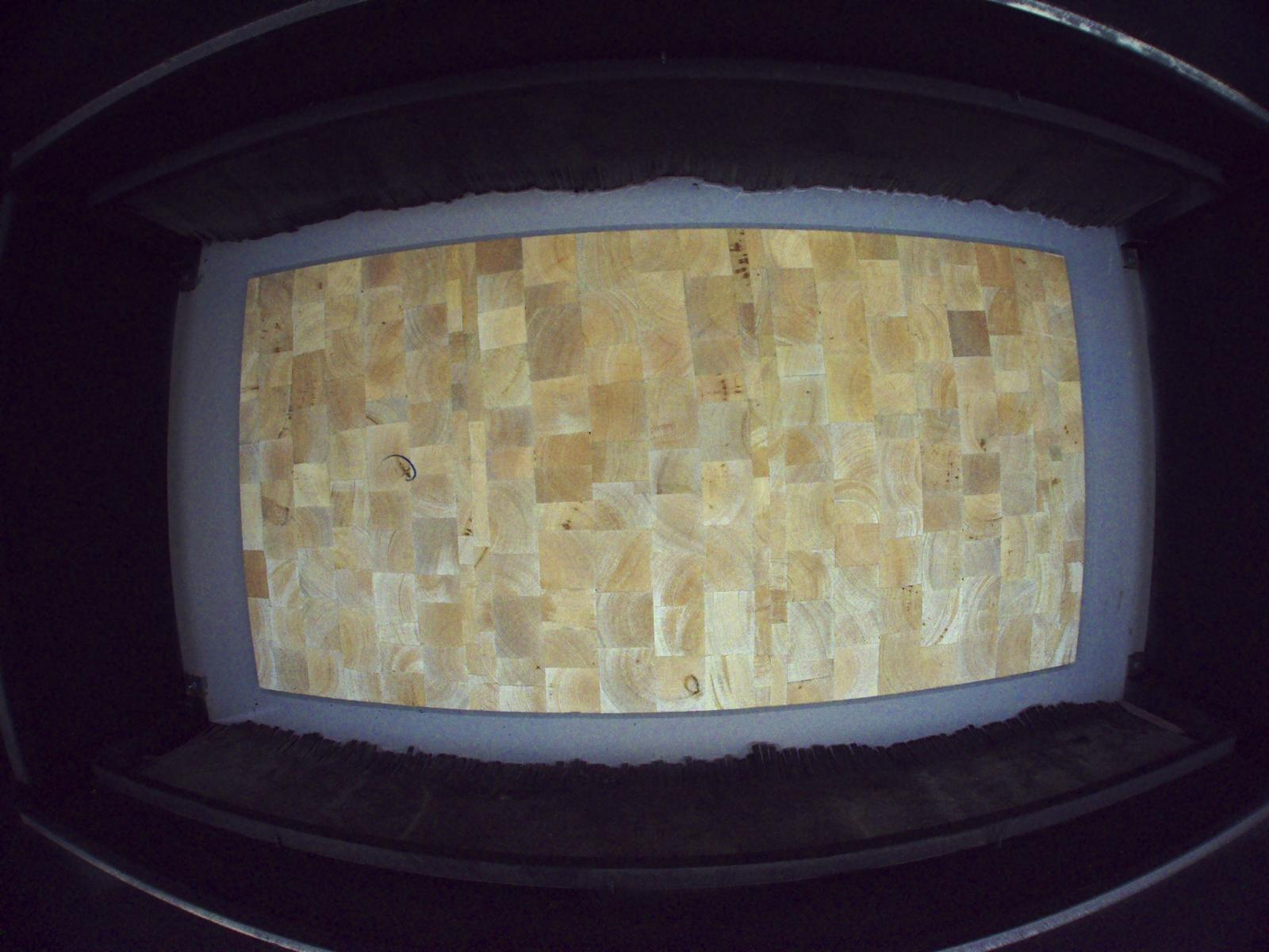nudillo: (399, 462, 411, 479)
